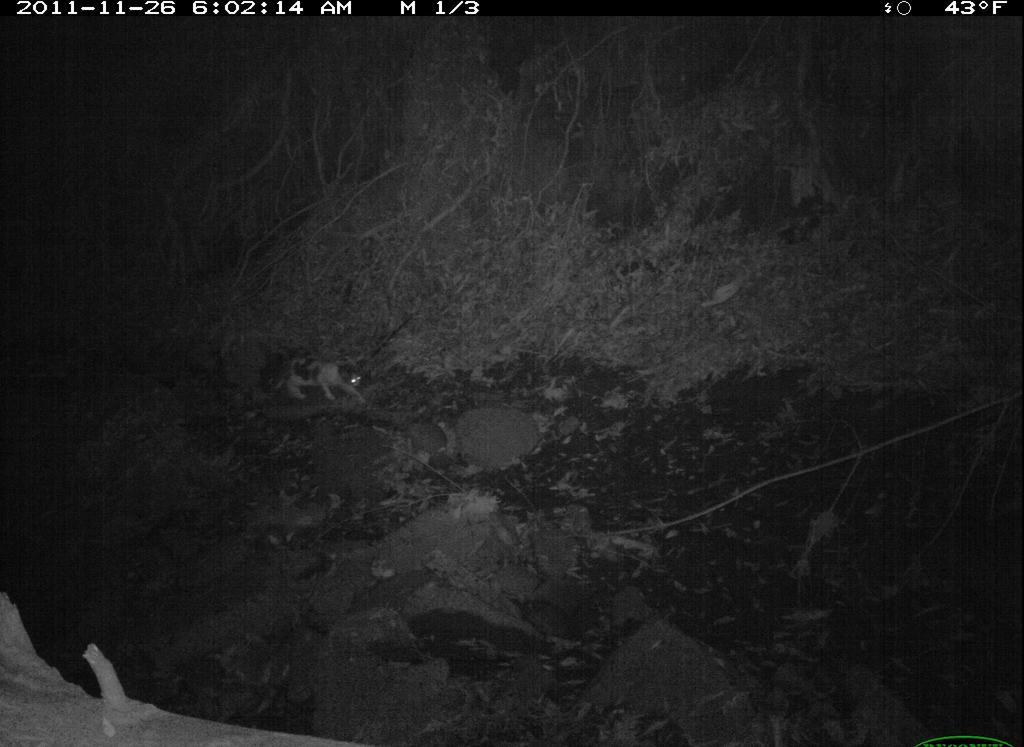cat: (266, 347, 369, 412)
